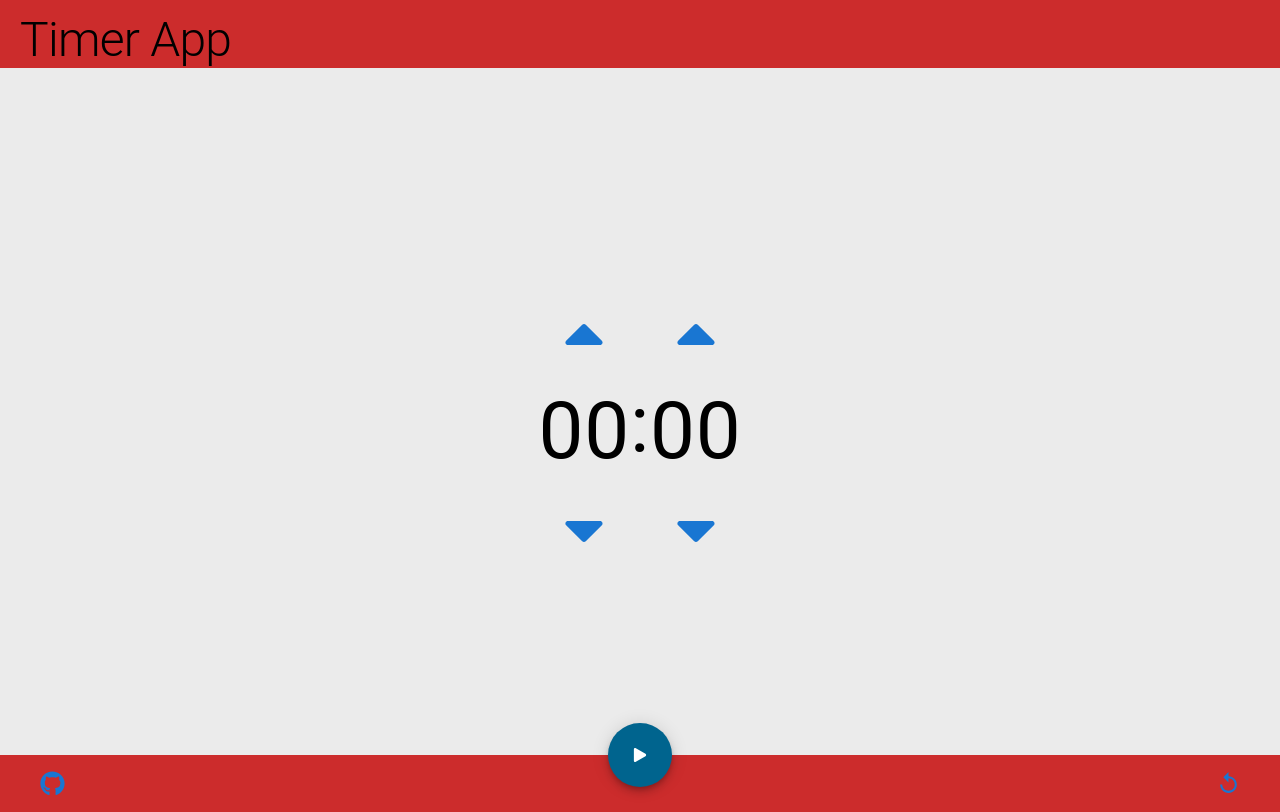
it: Tests for <App /> component › Up and down buttons for seconds in TimerDisplay work correctly
Expected: the text with test id "minutes" reads "00", x1=538 y1=384 x2=630 y2=478
Expected: the text with test id "seconds" reads "00", x1=650 y1=384 x2=742 y2=478
// Seconds should increase by 1 to 1.
Click the button with test id "increaseSecondsBtn".
click(696, 333)  # box x1=656 y1=295 x2=736 y2=371
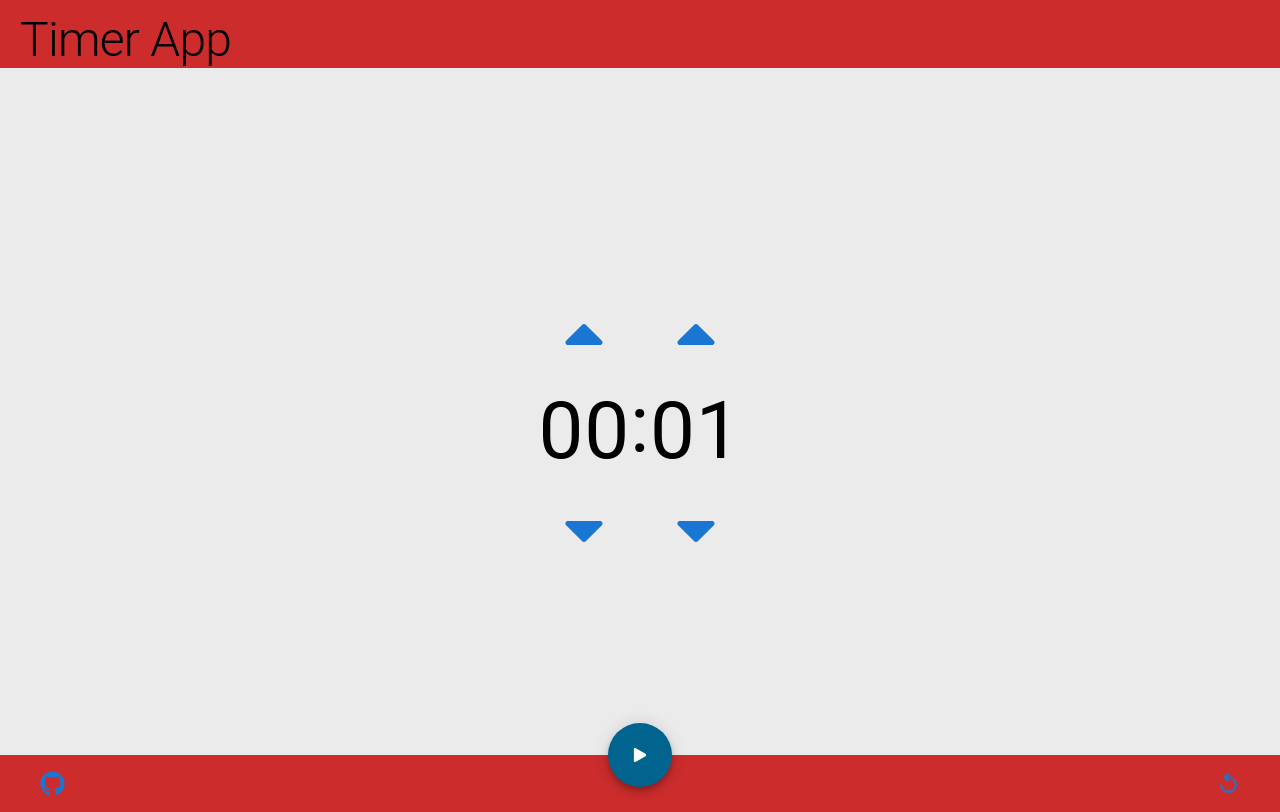
Expected: the text with test id "minutes" reads "00", x1=538 y1=384 x2=630 y2=478
Expected: the text with test id "seconds" reads "01", x1=650 y1=384 x2=742 y2=478
// Seconds should decrease by 1 to 0.
Click the button with test id "decreaseSecondsBtn".
click(696, 529)  # box x1=656 y1=491 x2=736 y2=567
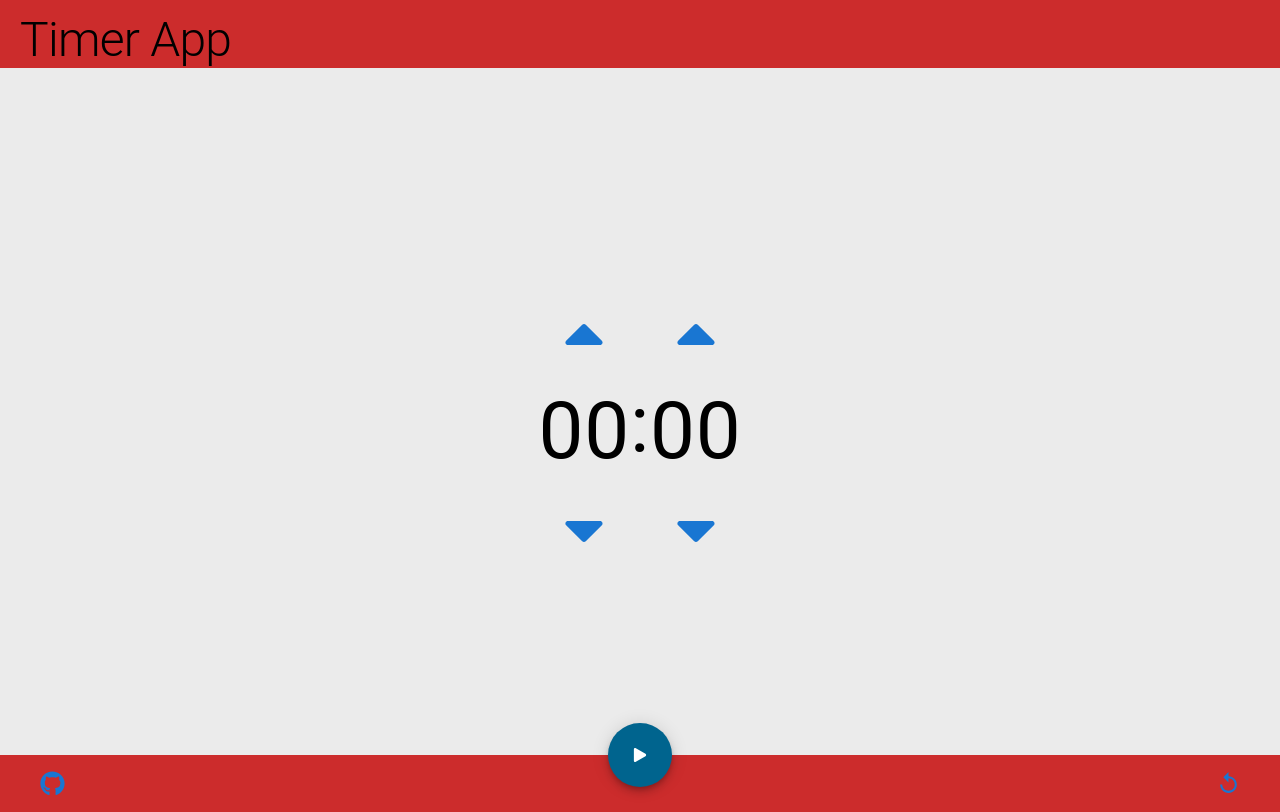
Expected: the text with test id "minutes" reads "00", x1=538 y1=384 x2=630 y2=478
Expected: the text with test id "seconds" reads "00", x1=650 y1=384 x2=742 y2=478
// Seconds and minutes both should decrease by 1 to 59 (rounded).
Click the button with test id "decreaseSecondsBtn".
click(696, 529)  # box x1=656 y1=491 x2=736 y2=567
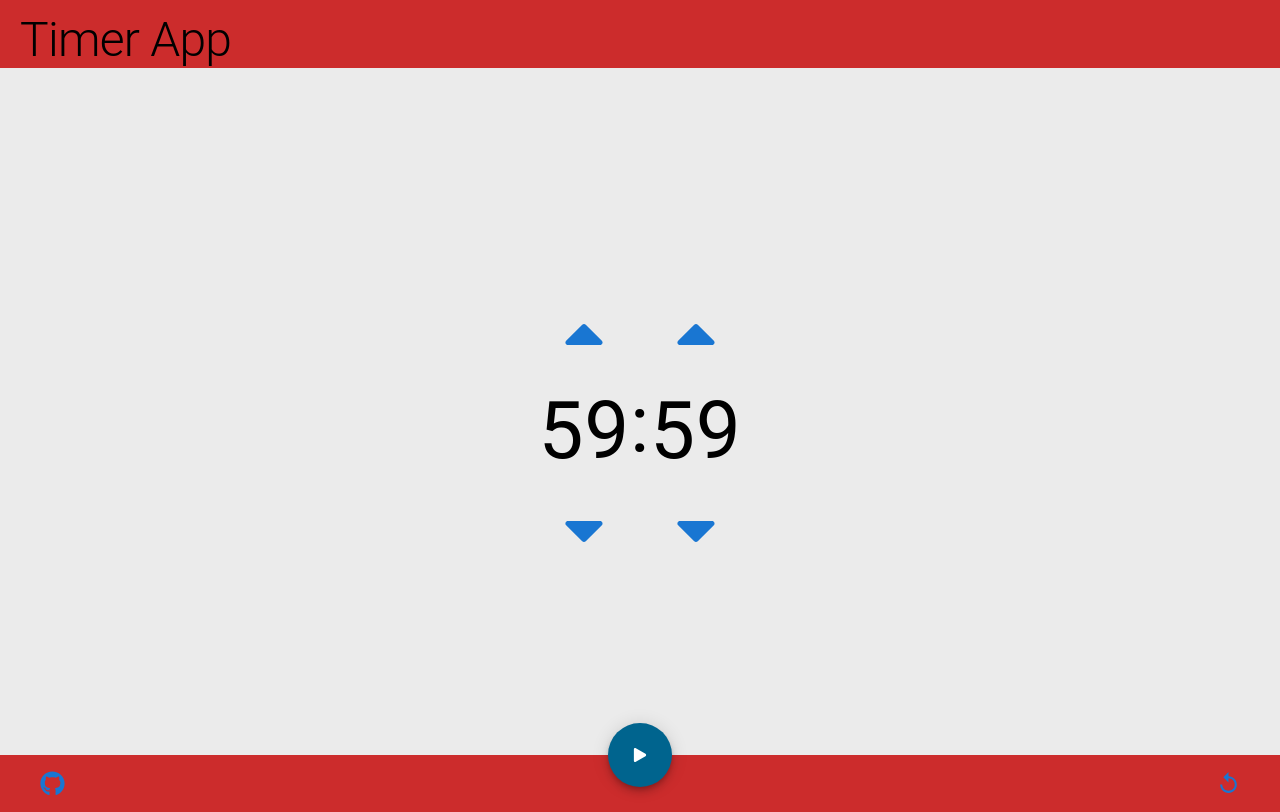
Expected: the text with test id "minutes" reads "59", x1=538 y1=384 x2=630 y2=478
Expected: the text with test id "seconds" reads "59", x1=650 y1=384 x2=742 y2=478
// Seconds and minutes both should increase by 1 to 0 (rounded).
Click the button with test id "increaseSecondsBtn".
click(696, 333)  # box x1=656 y1=295 x2=736 y2=371
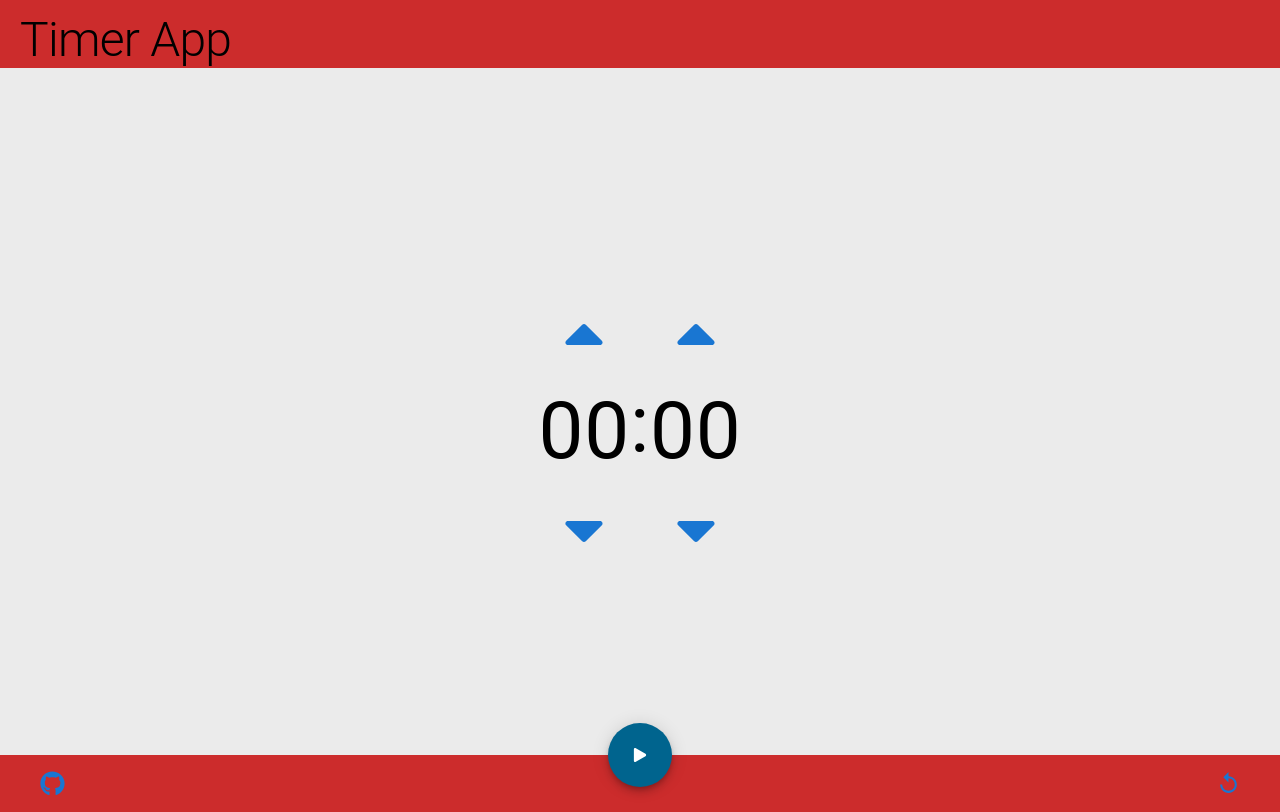
Expected: the text with test id "minutes" reads "00", x1=538 y1=384 x2=630 y2=478
Expected: the text with test id "seconds" reads "00", x1=650 y1=384 x2=742 y2=478
